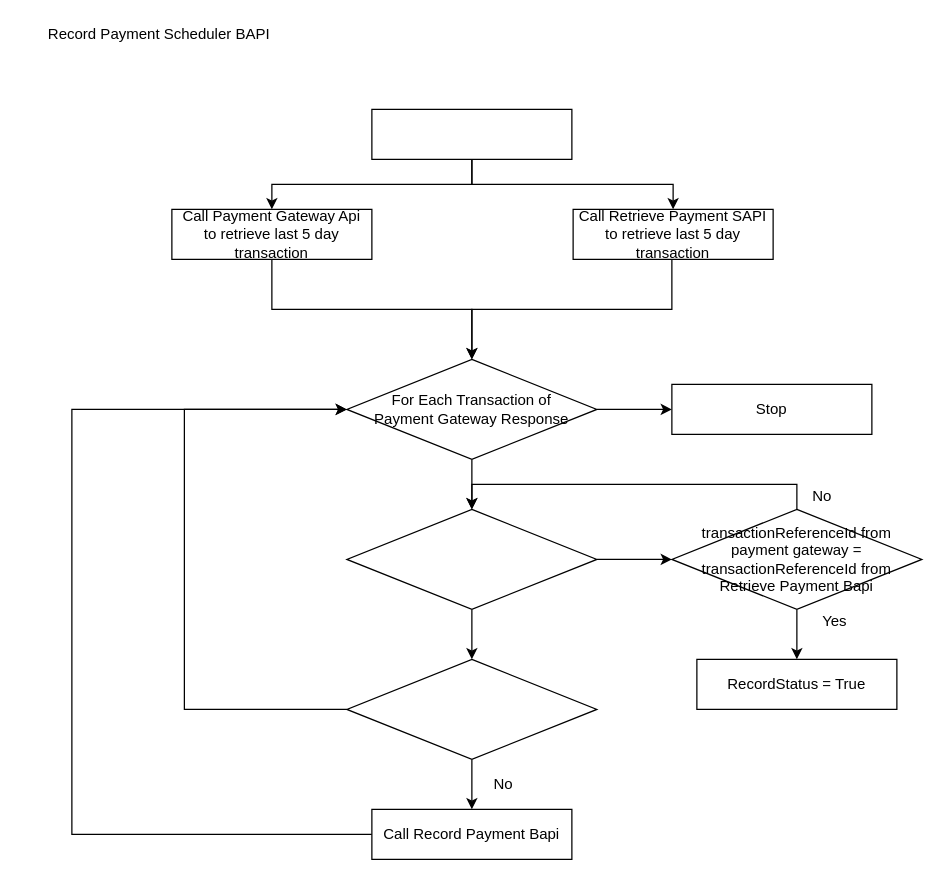
This 944x881 diagram has some shape labels left out. Here are the shapes that lost their labels. From the top down, the centre of each, then its label:
At (x=471, y=133): "Start".
At (x=471, y=558): "For Each Transaction of Retrieve Payment Bapi".
At (x=471, y=708): "If RecordStatus = True".
